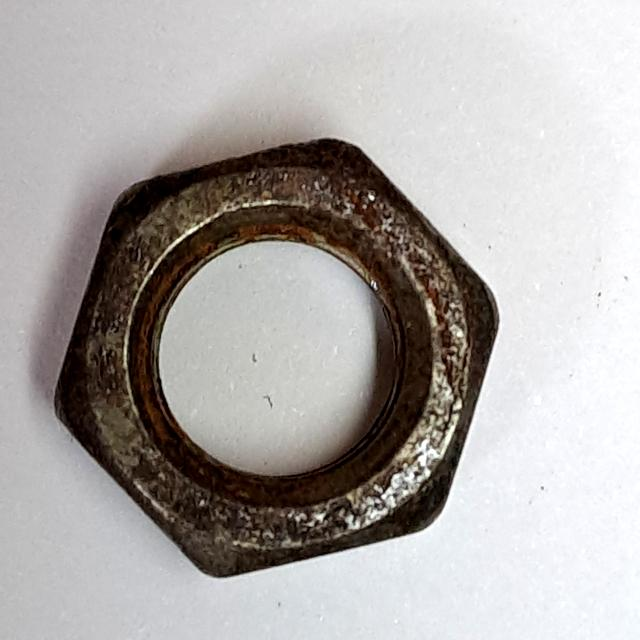Rust: (42, 130, 510, 592)
